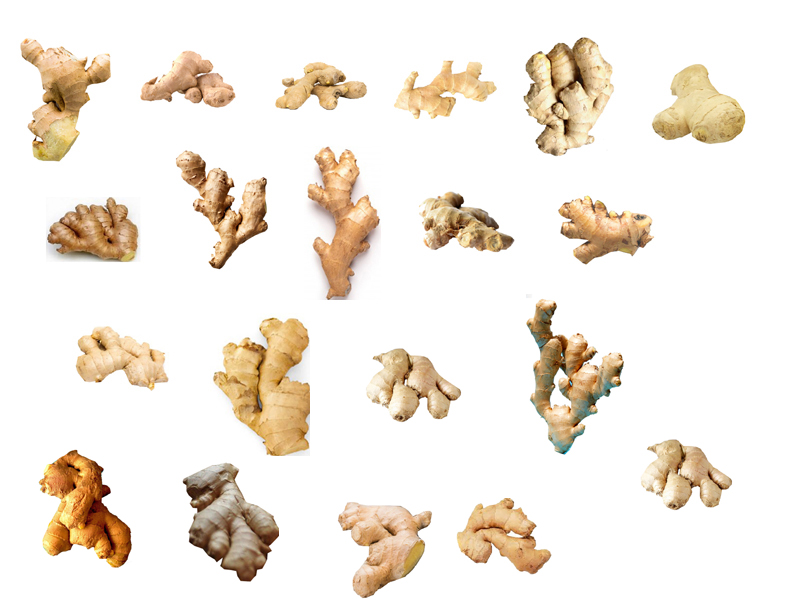ginger: (207, 313, 326, 454), (520, 295, 625, 454), (180, 461, 281, 589), (170, 145, 270, 273), (15, 33, 112, 164), (302, 140, 380, 301), (36, 451, 137, 570), (520, 36, 615, 158), (335, 500, 439, 598), (366, 344, 467, 437), (455, 493, 556, 582), (651, 62, 752, 151), (637, 432, 741, 518), (67, 320, 174, 394), (135, 44, 241, 117), (416, 187, 524, 256), (44, 193, 141, 266), (557, 193, 655, 264), (391, 54, 498, 119), (267, 58, 375, 113)
